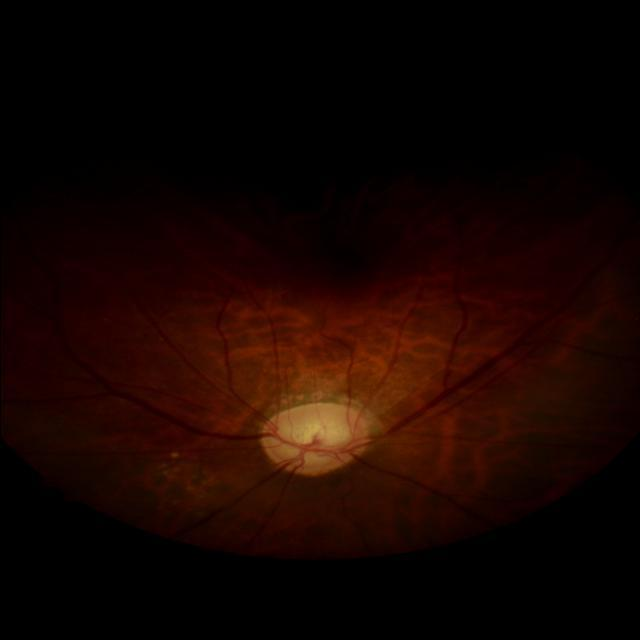cup: (278, 424, 350, 456)
disk: (260, 402, 368, 477)
